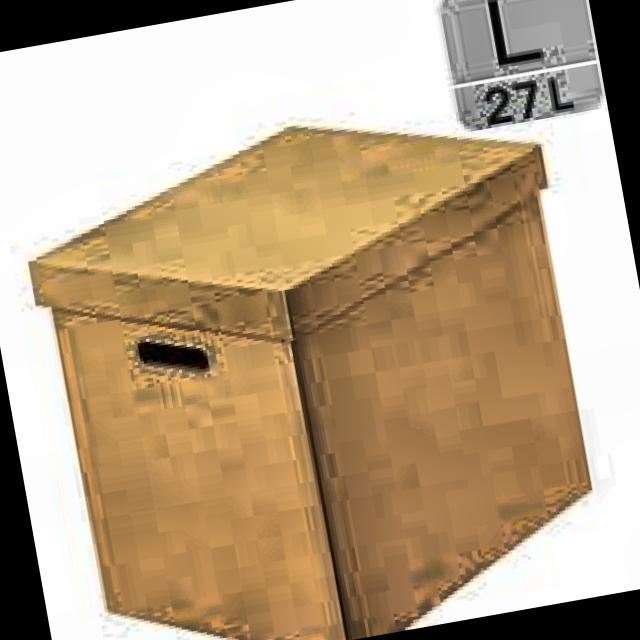cardboard: (8, 77, 619, 640)
